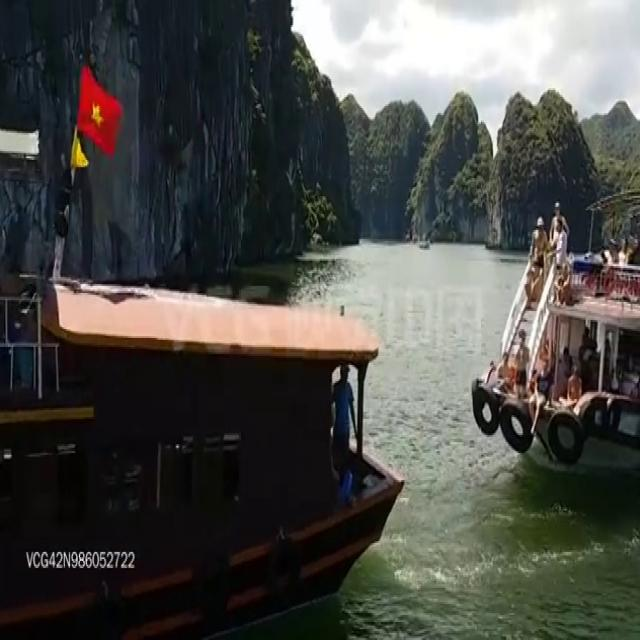passenger ship: (0, 113, 399, 628), (473, 180, 640, 466)
